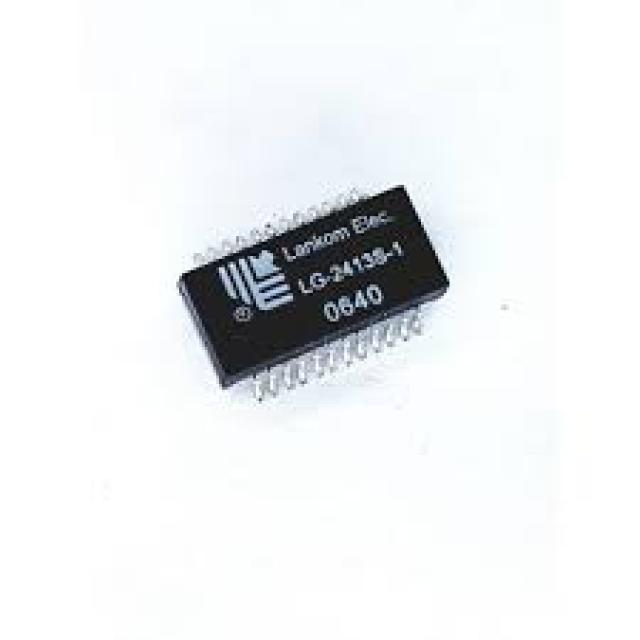IC: (178, 185, 446, 389)
